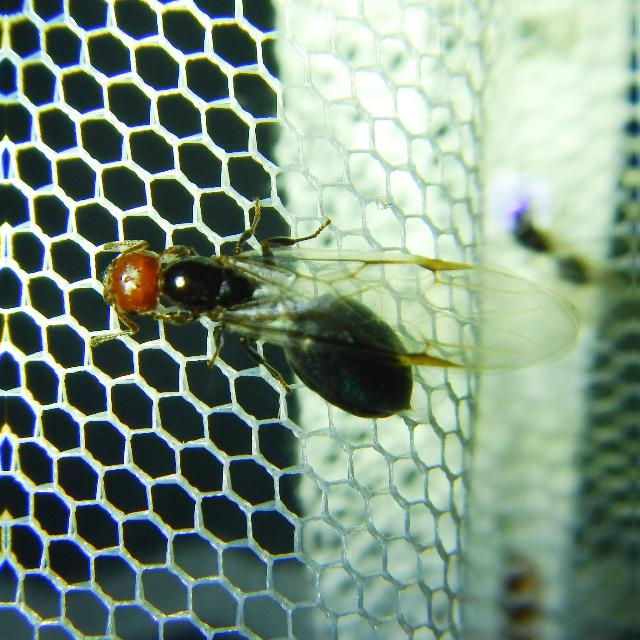Crematogaster: (90, 220, 420, 428)
